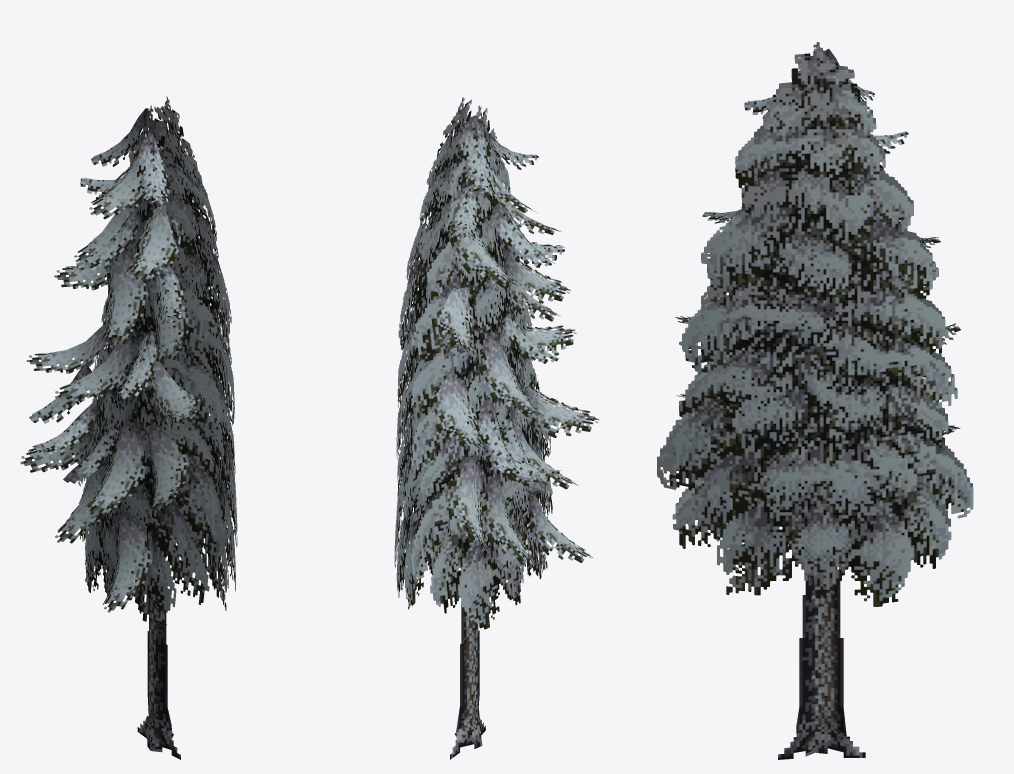
File: EnvFldMD_Tree_C_LA_NoPainted.FBX
The picture shows the model from 3 angles, left to right: view 1: azimuth 30°, elevation 25°; view 2: azimuth 150°, elevation 25°; view 3: azimuth 270°, elevation 25°; orthographic projection. The views are drawn at different scales.
Parts seen in each view (by area): view 1: EnvFldMD_Tree_C_LA_NoPainted; view 2: EnvFldMD_Tree_C_LA_NoPainted; view 3: EnvFldMD_Tree_C_LA_NoPainted.
Part boxes in pixels (x1,y1,x2,y2): EnvFldMD_Tree_C_LA_NoPainted: [20, 96, 237, 759]; EnvFldMD_Tree_C_LA_NoPainted: [394, 97, 599, 759]; EnvFldMD_Tree_C_LA_NoPainted: [657, 42, 973, 759].
Size of the model in its own units: 343 by 1282 by 580.
Materials: 2 (2 with a texture image).
